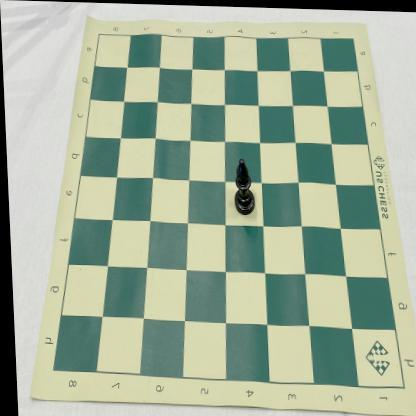black-bishop: (230, 156, 254, 215)
